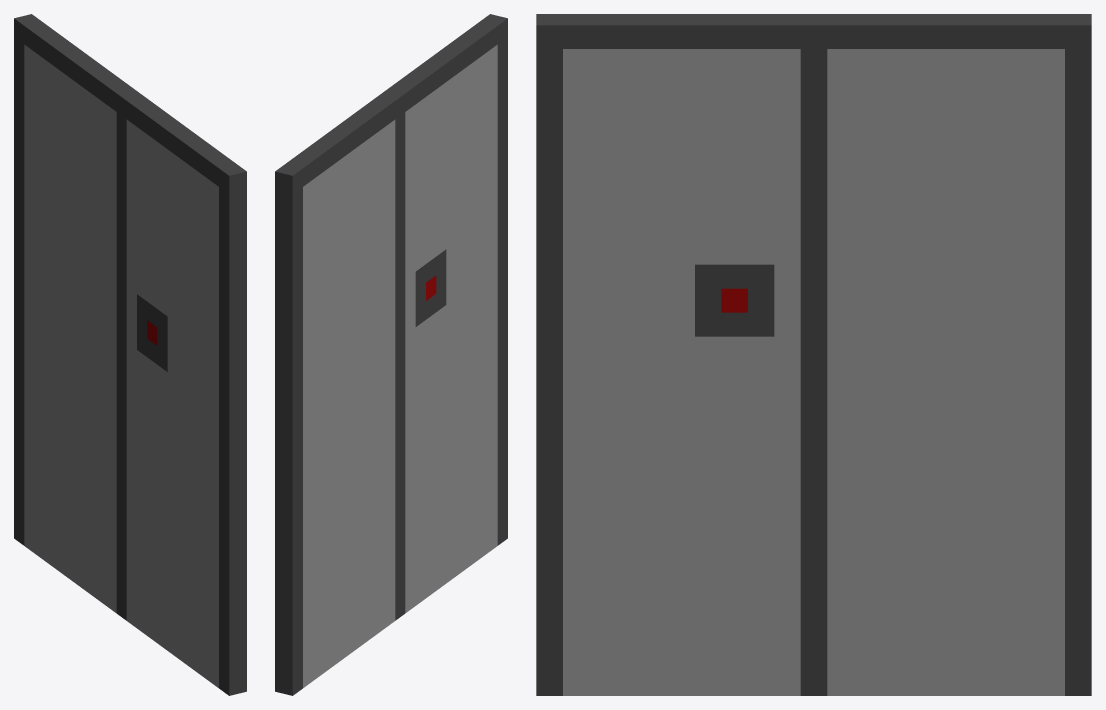
The model's file is Door_for_wall_Ver1.obj.
3 renders of one model, left to right at view 1: azimuth 30°, elevation 25°; view 2: azimuth 150°, elevation 25°; view 3: azimuth 270°, elevation 25°, orthographic. The views are drawn at different scales.
Bounding box in the file's own units: 0.1 × 2.8 × 2.1.
Materials: 1 (1 with a texture image).
